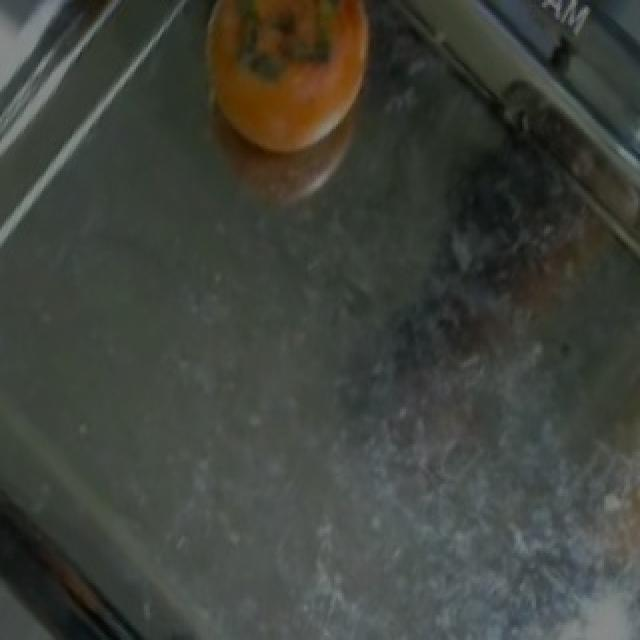Fruit: (176, 0, 396, 179)
